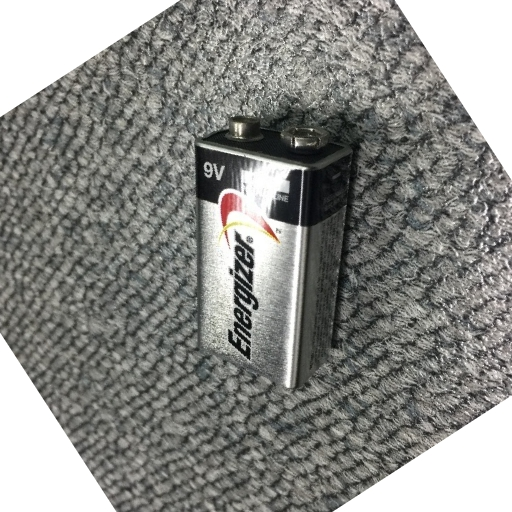Battery_3: (173, 102, 370, 397)
